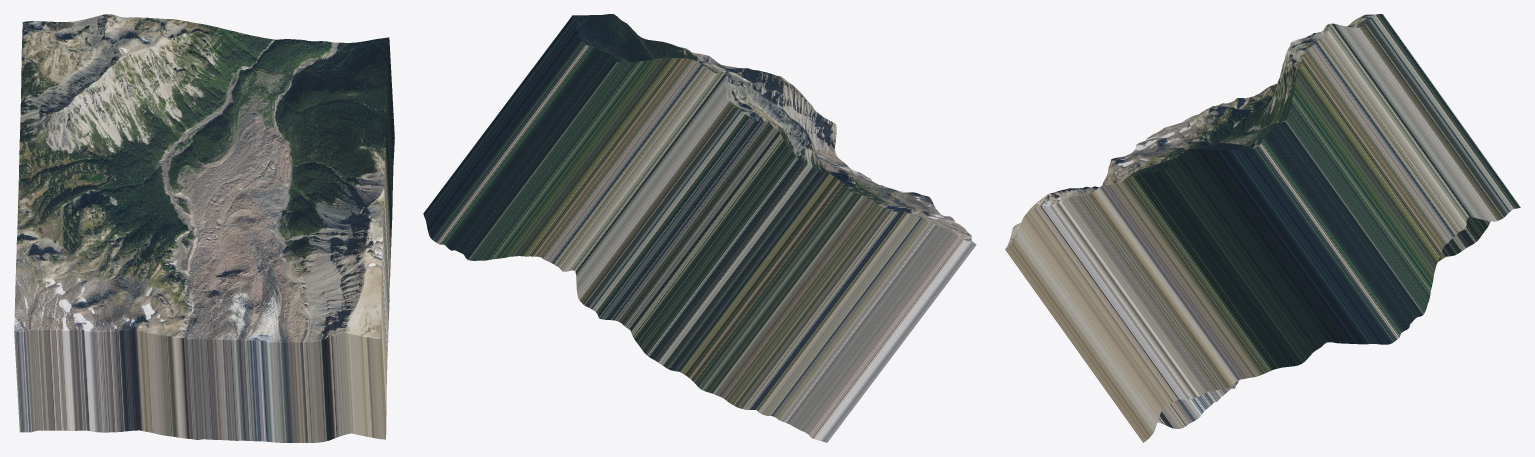
3 views of the same model, side by side, from view 1: azimuth 30°, elevation 25°; view 2: azimuth 150°, elevation 25°; view 3: azimuth 270°, elevation 25° (orthographic). The views are drawn at different scales.
Bounding box in the file's own units: 6311 × 4902 × 6506.
1 material, 1 textured.
